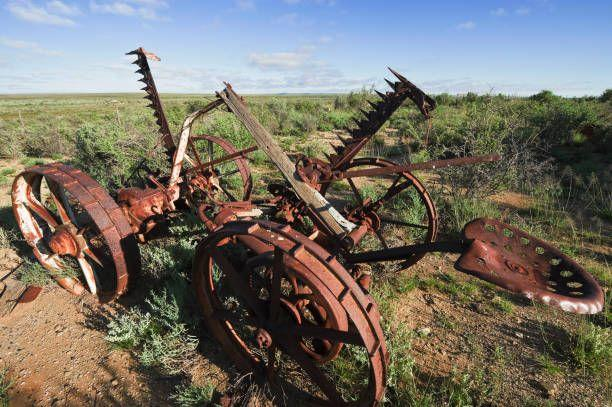metal: (10, 43, 612, 407)
